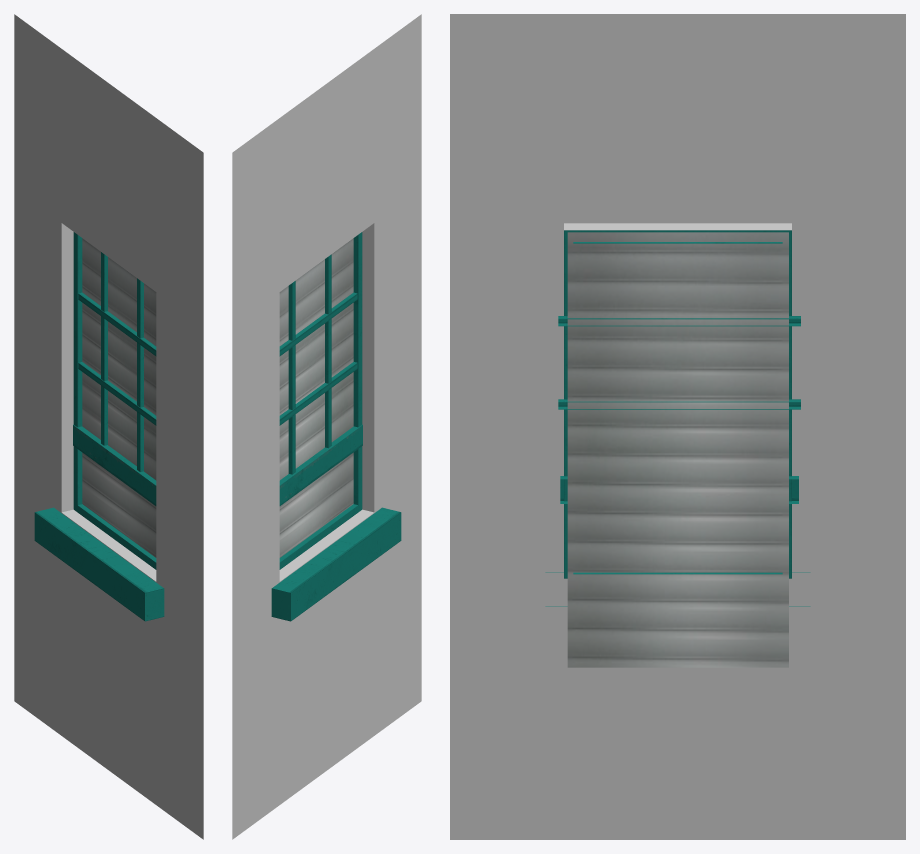
File: MB_Wall_Window_D_03.fbx
The picture shows the model from 3 angles, left to right: view 1: azimuth 30°, elevation 25°; view 2: azimuth 150°, elevation 25°; view 3: azimuth 270°, elevation 25°; orthographic projection. The views are drawn at different scales.
Visible parts, largest first — view 1: MB_Wall_Window_D_03; view 2: MB_Wall_Window_D_03; view 3: MB_Wall_Window_D_03.
Part boxes in pixels (<box>): MB_Wall_Window_D_03: <box>14,14,203,839</box>; MB_Wall_Window_D_03: <box>232,14,421,839</box>; MB_Wall_Window_D_03: <box>450,14,905,839</box>.
Bounding box in the file's own units: 23.65 × 400 × 200.
